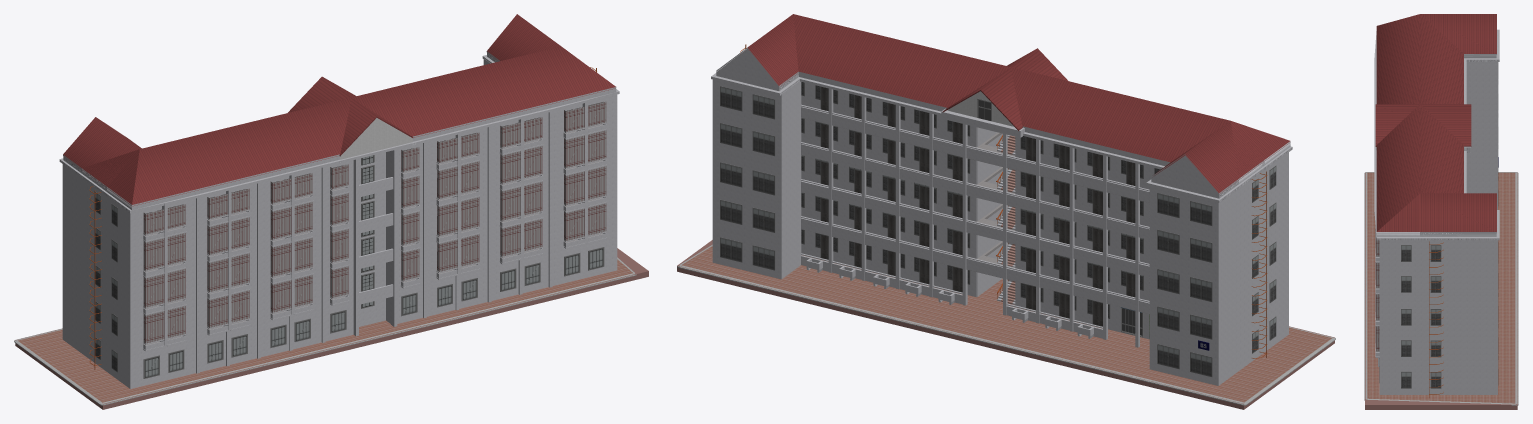
3 views of the same model, side by side, from view 1: azimuth 30°, elevation 25°; view 2: azimuth 150°, elevation 25°; view 3: azimuth 270°, elevation 25° (orthographic). The views are drawn at different scales.
Visible parts, largest first — view 1: B5(Clone), Cube; view 2: B5(Clone), Cube; view 3: B5(Clone), Cube.
Boxes of the visible parts, left/top/right/bottom form: B5(Clone): left=14, top=14, right=636, bottom=405; Cube: left=15, top=248, right=648, bottom=409; B5(Clone): left=677, top=14, right=1335, bottom=405; Cube: left=677, top=240, right=1334, bottom=409; B5(Clone): left=1364, top=14, right=1518, bottom=405; Cube: left=1365, top=172, right=1517, bottom=409.
Bounding box in the file's own units: 2.97 × 1.14 × 0.83.
Materials: 13 (9 with a texture image).
